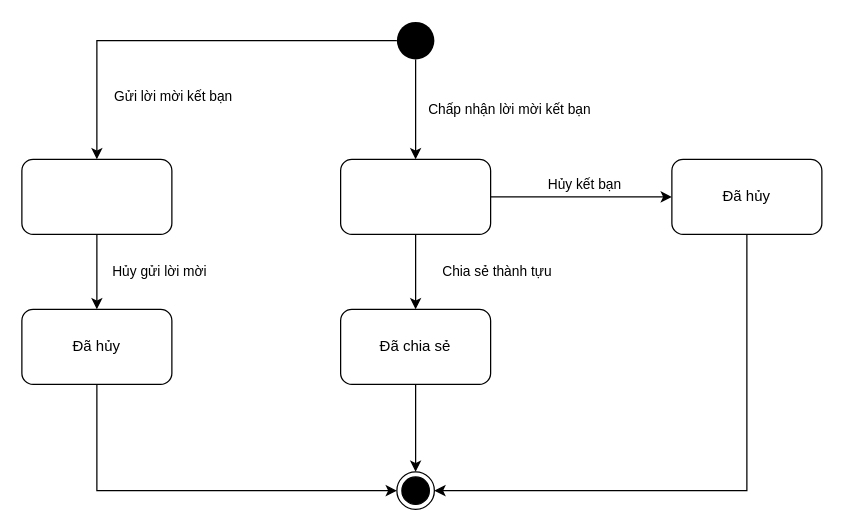
The diagram is 844 pixels wide and 531 high, and some of its shapes have lost their labels. The shapes that lost their labels are listed below. From the top down, each one's centre as x and y in pixels, then its label:
(96,196): Đã gửi
(415,196): Đã chấp chận
